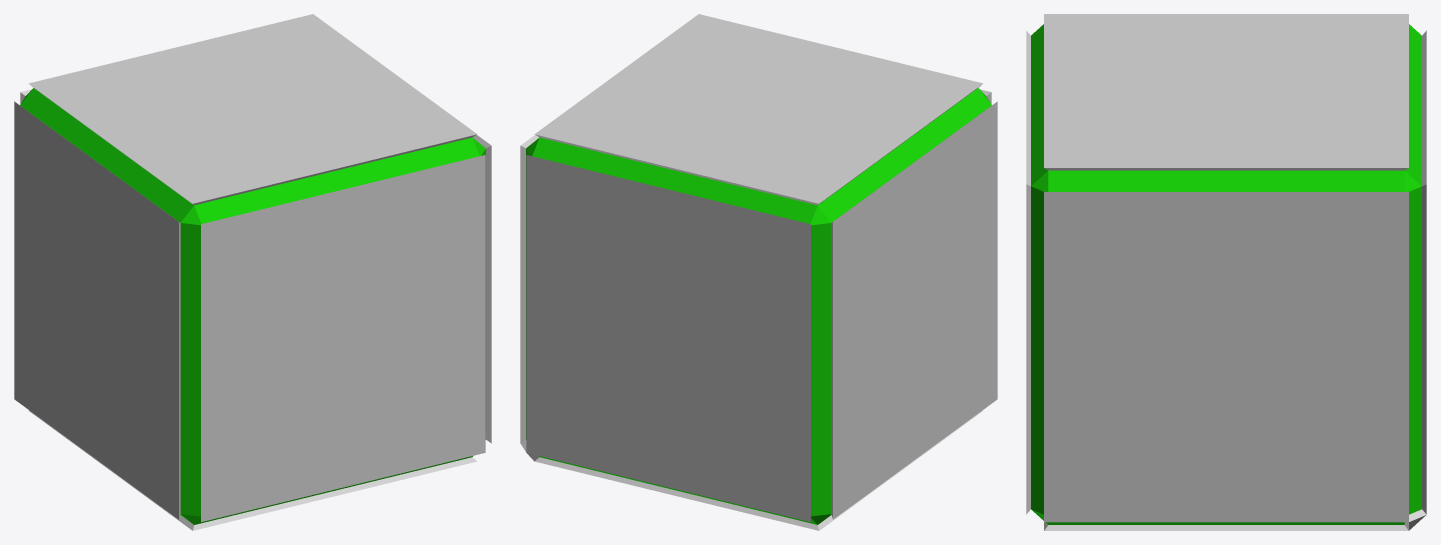
File: sunkenedge.fbx
3 views of the same model, side by side, from view 1: azimuth 30°, elevation 25°; view 2: azimuth 150°, elevation 25°; view 3: azimuth 270°, elevation 25° (orthographic). The views are drawn at different scales.
Visible parts, largest first — view 1: StandardCube; view 2: StandardCube; view 3: StandardCube.
Part boxes in pixels (x1,y1,x2,y2): StandardCube: (14,14,491,530); StandardCube: (520,14,997,530); StandardCube: (1026,14,1426,530).
Bounding box in the file's own units: 2 × 2 × 2.
